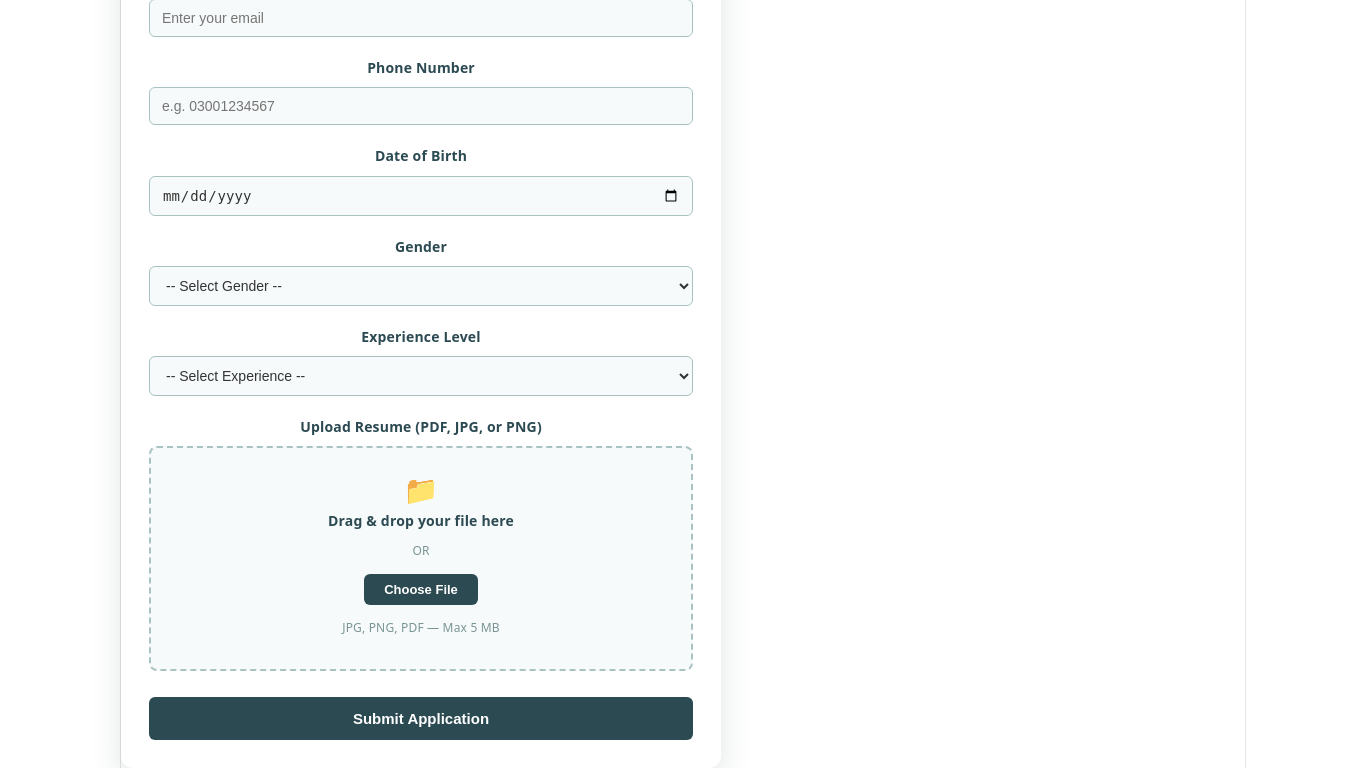
Test: JobApplicationForm › shows required field errors when submitting an empty form
The width and height of the screenshot is (1366, 768).
(page scrolled)
Click the button "Submit Application" at (421, 719), box [149,697,693,740]
(page scrolled)
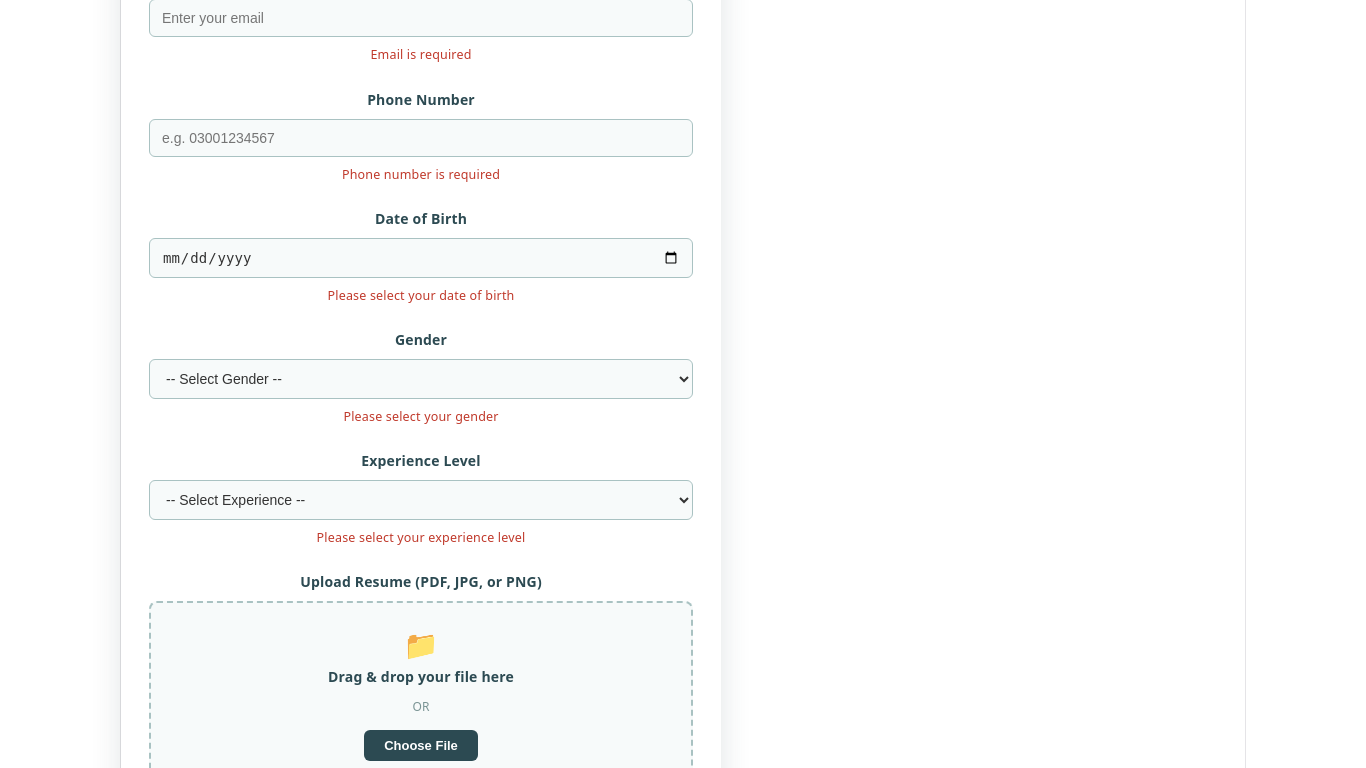
Now the text "Email is required" is shown, box [370,46,472,64]
Now the text "Phone number is required" is shown, box [342,166,500,183]
